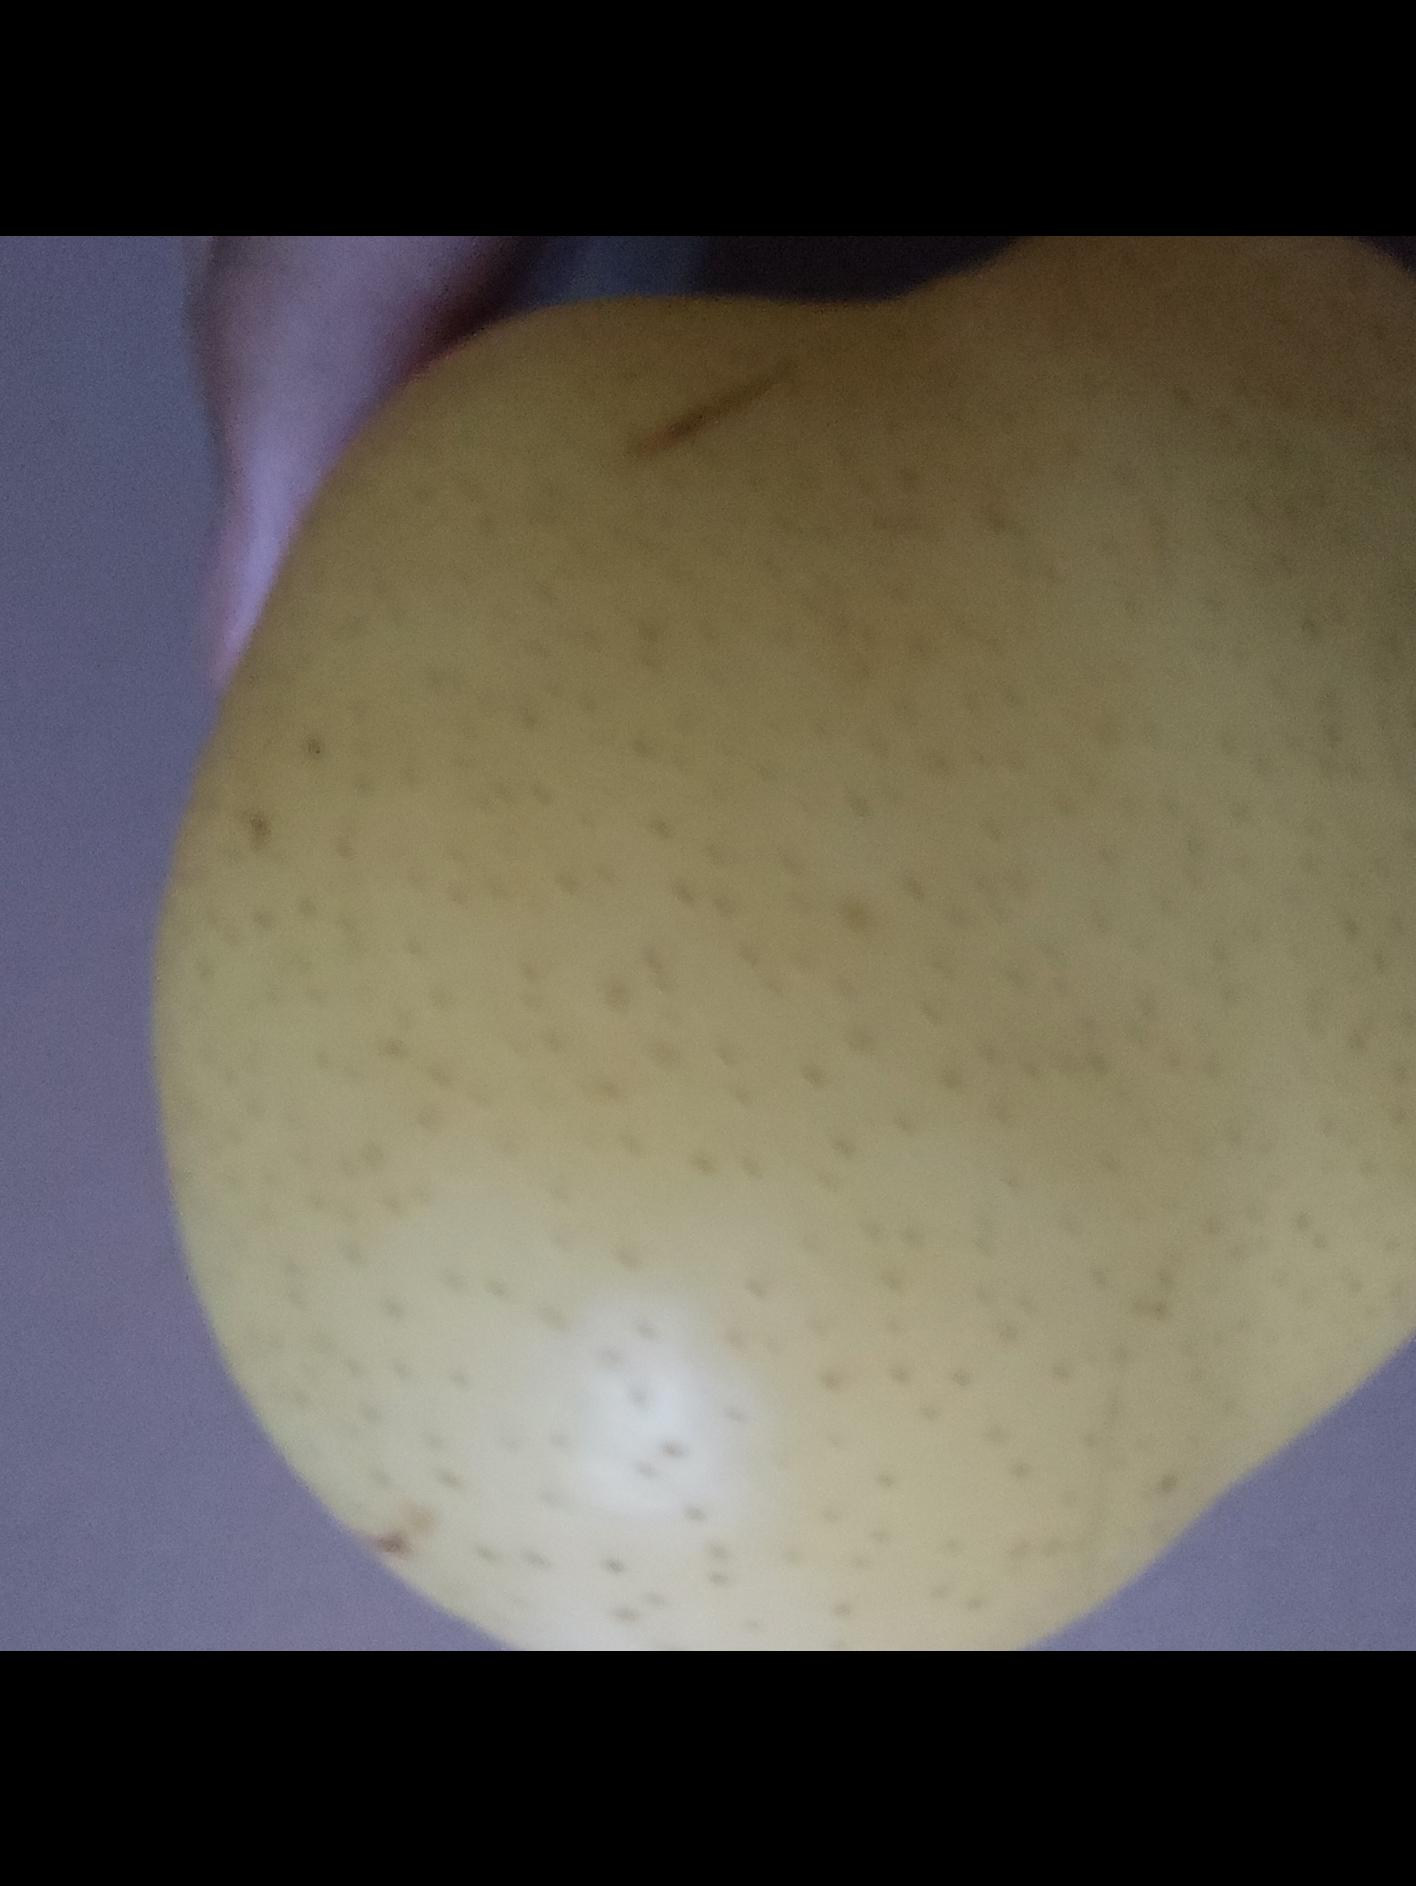Good Pear: (142, 235, 1416, 1651)
